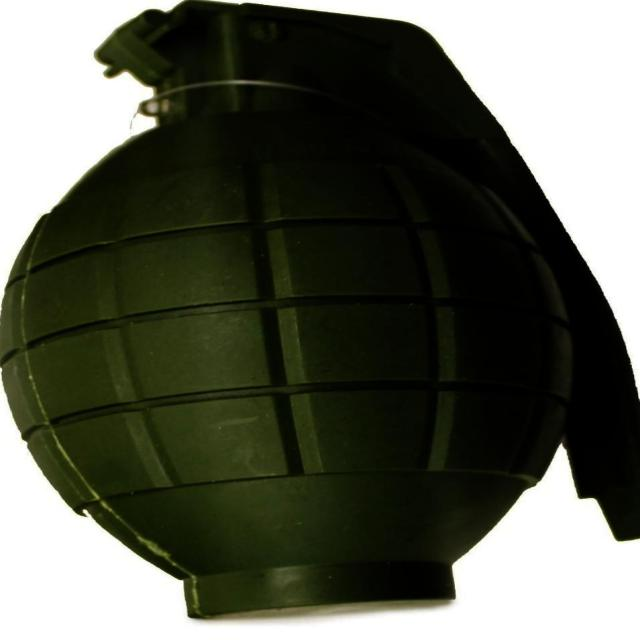grenade: (1, 1, 640, 622)
